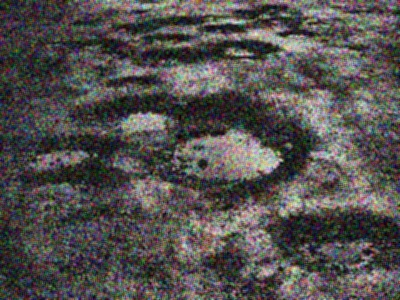pothole: (156, 98, 313, 190), (278, 210, 400, 274), (39, 205, 126, 281), (18, 170, 118, 210), (70, 95, 175, 132), (19, 136, 119, 173), (135, 47, 205, 70), (77, 34, 132, 61), (214, 39, 283, 60), (103, 74, 165, 91), (116, 21, 158, 36), (201, 22, 248, 35), (157, 15, 204, 27), (279, 29, 313, 39), (236, 8, 260, 16), (271, 16, 296, 22), (264, 4, 287, 10)
